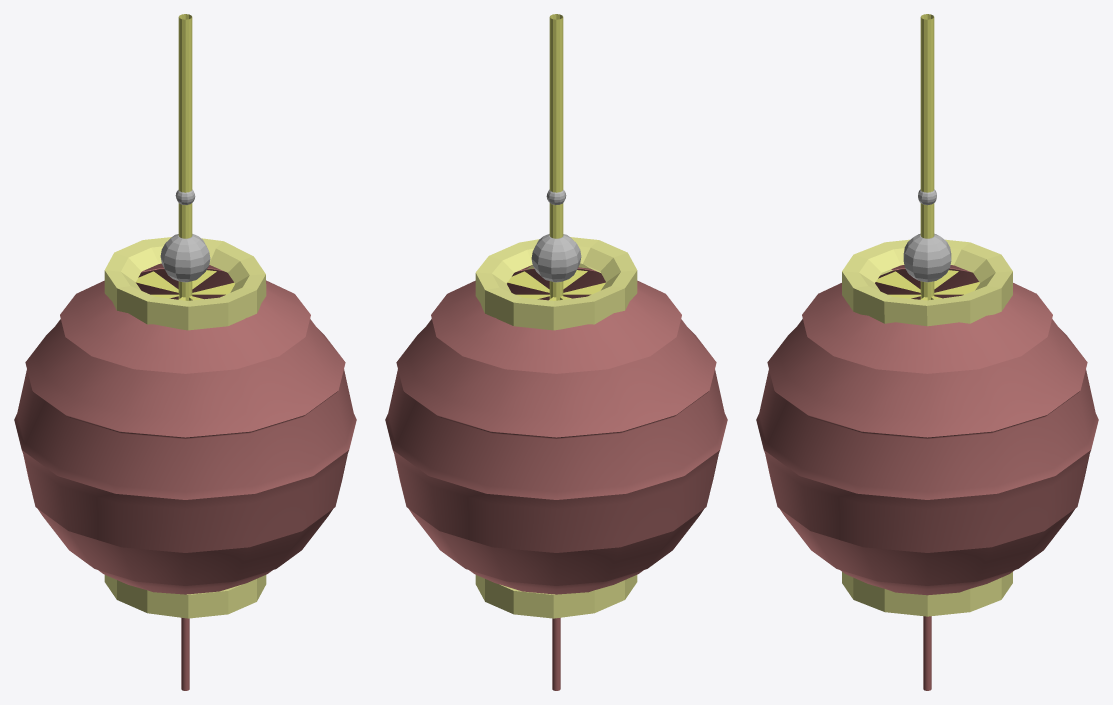
The model's file is LampFBX.fbx.
3 renders of one model, left to right at view 1: azimuth 30°, elevation 25°; view 2: azimuth 150°, elevation 25°; view 3: azimuth 270°, elevation 25°, orthographic.
Parts seen in each view (by area): view 1: polySurface8; view 2: polySurface8; view 3: polySurface8.
Boxes of the visible parts, <box> form: polySurface8: <box>14,14,356,690</box>; polySurface8: <box>385,14,727,690</box>; polySurface8: <box>756,14,1098,690</box>.
Bounding box in the file's own units: 13.88 × 30.22 × 13.96.
